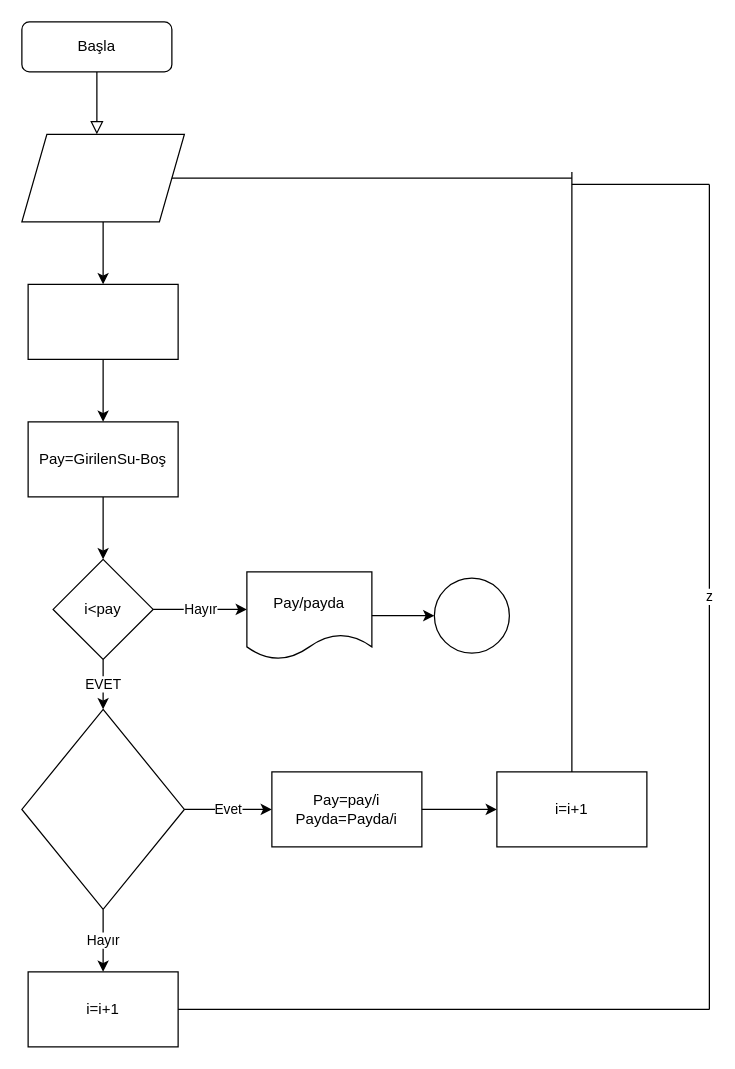
The diagram is 735 pixels wide and 1069 high, and some of its shapes have lost their labels. The shapes that lost their labels are listed below. From the top down, each one's centre as x and y in pixels, then its label:
At [102,177]: "Boş=280 Dolu=400 .i=2".
At [102,321]: "Payda=Dolu-Boş GirilenSu".
At [471,615]: "Bitir".
At [102,808]: "pay &&payda%i==0".
